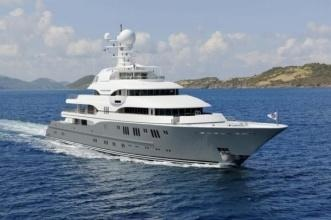yacht: (42, 22, 293, 174)
